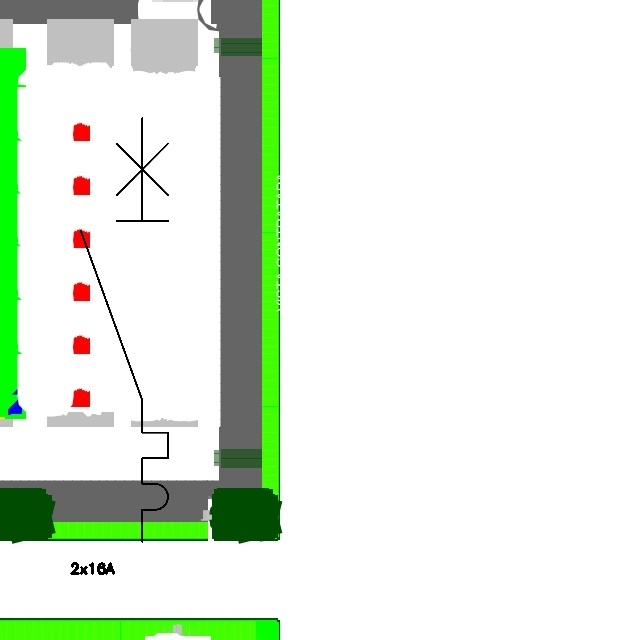interruptor_termomagnetico: (70, 107, 179, 553)
